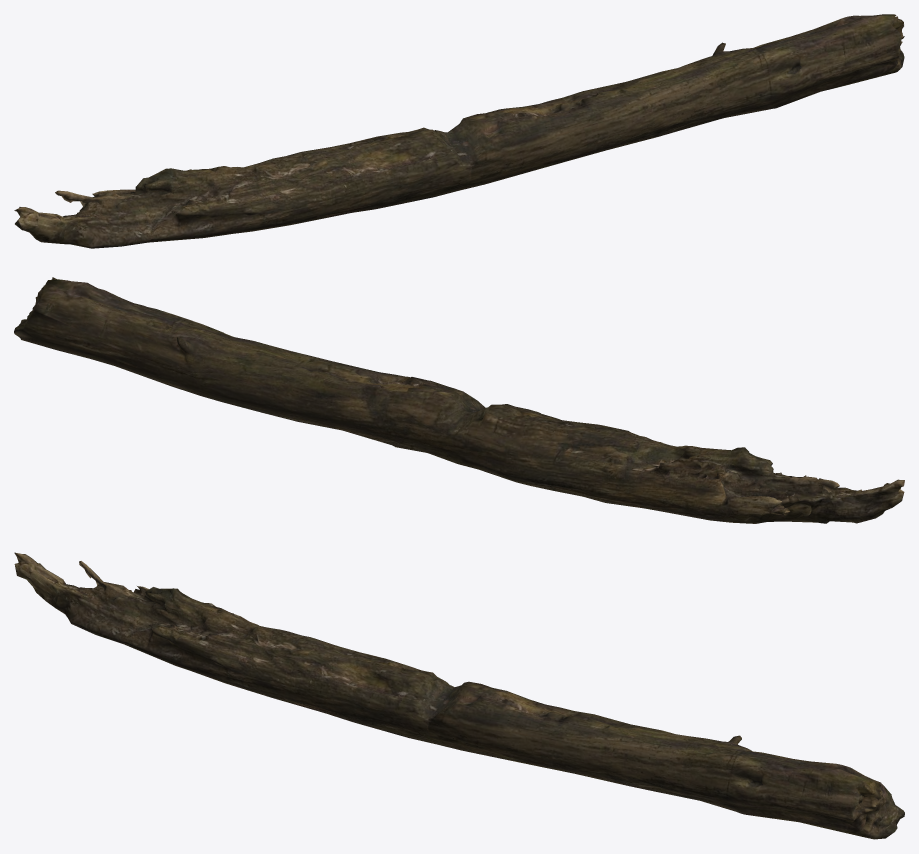
Rendered from dead_tree_trunk.glb.
3 views of the same model, one above another, from view 1: azimuth 30°, elevation 25°; view 2: azimuth 150°, elevation 25°; view 3: azimuth 330°, elevation 25° (orthographic).
Size of the model in its own units: 3.05 by 0.287 by 0.2774.
Materials: 1 (1 with a texture image).
